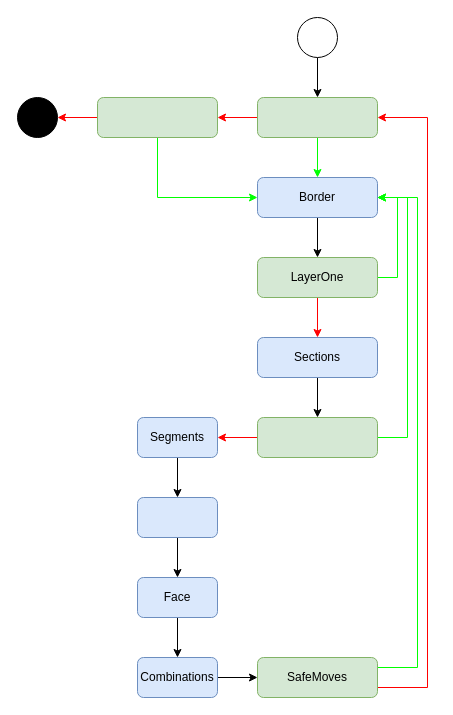
This 453x715 diagram has some shape labels left out. Each missing label, with the centre of its shape:
"LayerTwo" goes at (x=317, y=437).
"SafestMove" goes at (x=157, y=117).
"SimpleCorners" goes at (x=317, y=117).
"Subsegments" goes at (x=177, y=517).
